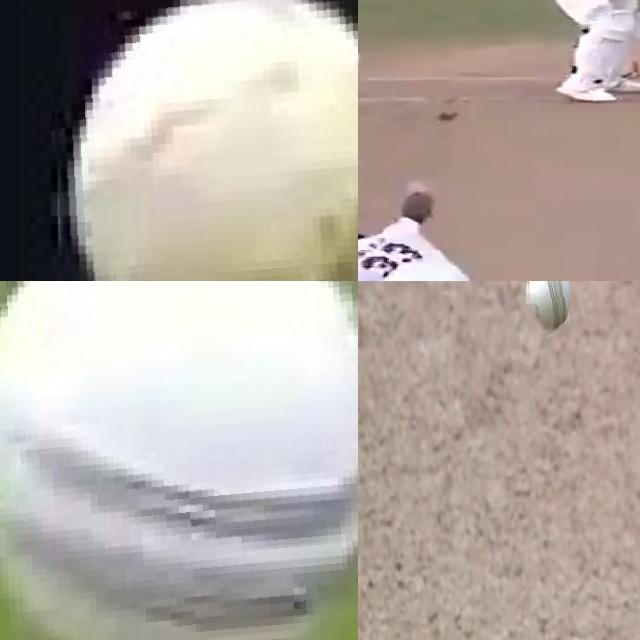Cricket ball: (0, 281, 358, 640), (48, 0, 358, 281), (526, 281, 571, 335), (435, 110, 461, 126)
